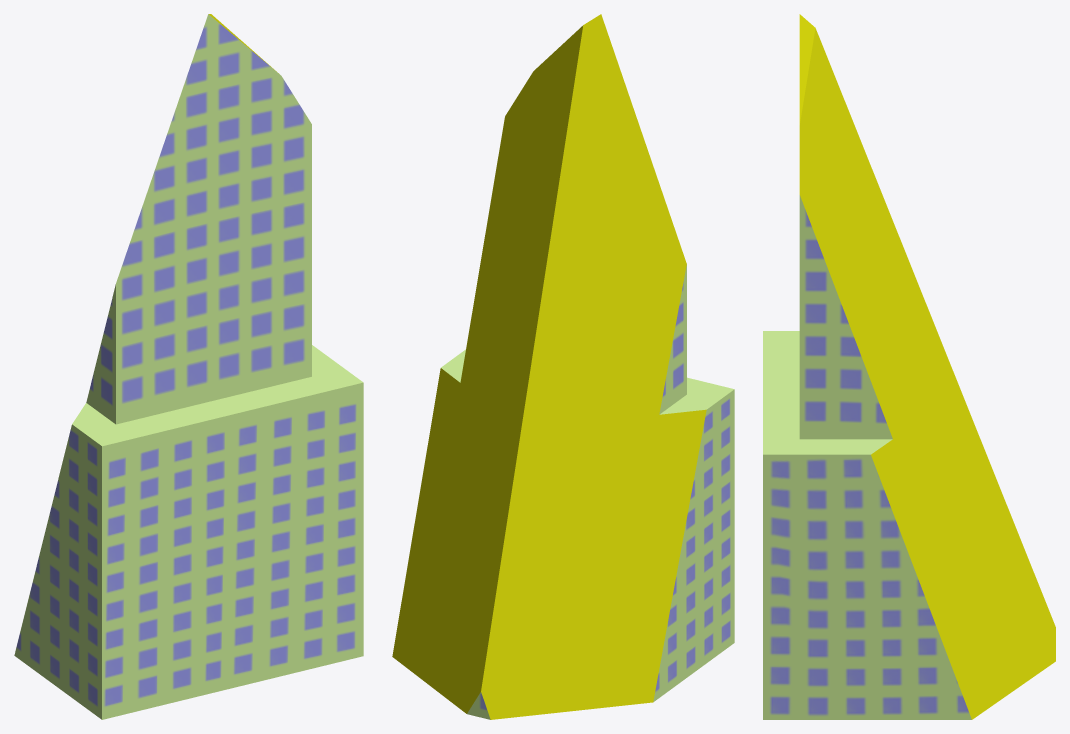
The model's file is cbShard4.fbx.
3 renders of one model, left to right at view 1: azimuth 30°, elevation 25°; view 2: azimuth 150°, elevation 25°; view 3: azimuth 270°, elevation 25°, orthographic. The views are drawn at different scales.
Visible parts, largest first — view 1: shard23; view 2: shard23; view 3: shard23.
Part boxes in pixels (<box>): shard23: <box>14,14,363,719</box>; shard23: <box>392,14,734,719</box>; shard23: <box>763,14,1055,719</box>.
Size of the model in its own units: 0.0953 by 0.2304 by 0.0953.
2 materials, 1 textured.
